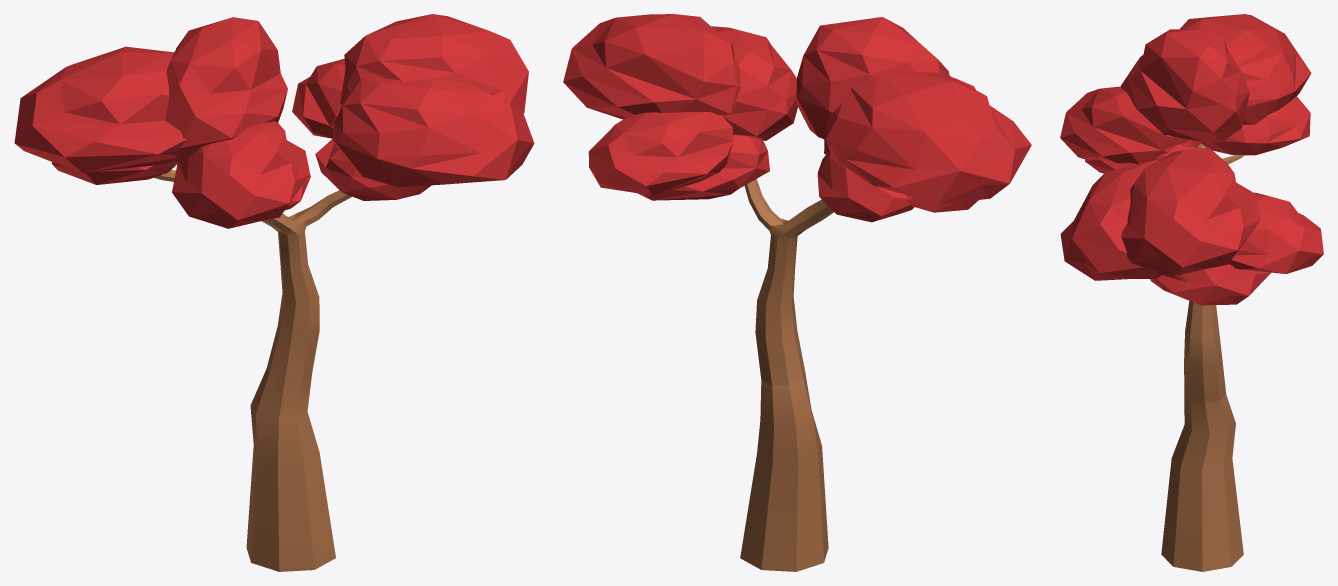
Rendered from Tree.fbx.
3 views of the same model, side by side, from view 1: azimuth 30°, elevation 25°; view 2: azimuth 150°, elevation 25°; view 3: azimuth 270°, elevation 25° (orthographic). The views are drawn at different scales.
Visible parts, largest first — view 1: Tree; view 2: Tree; view 3: Tree.
Part boxes in pixels (<box>): Tree: <box>14,14,534,571</box>; Tree: <box>563,14,1031,571</box>; Tree: <box>1060,14,1323,571</box>.
Bounding box in the file's own units: 2094 × 2296 × 1126.
